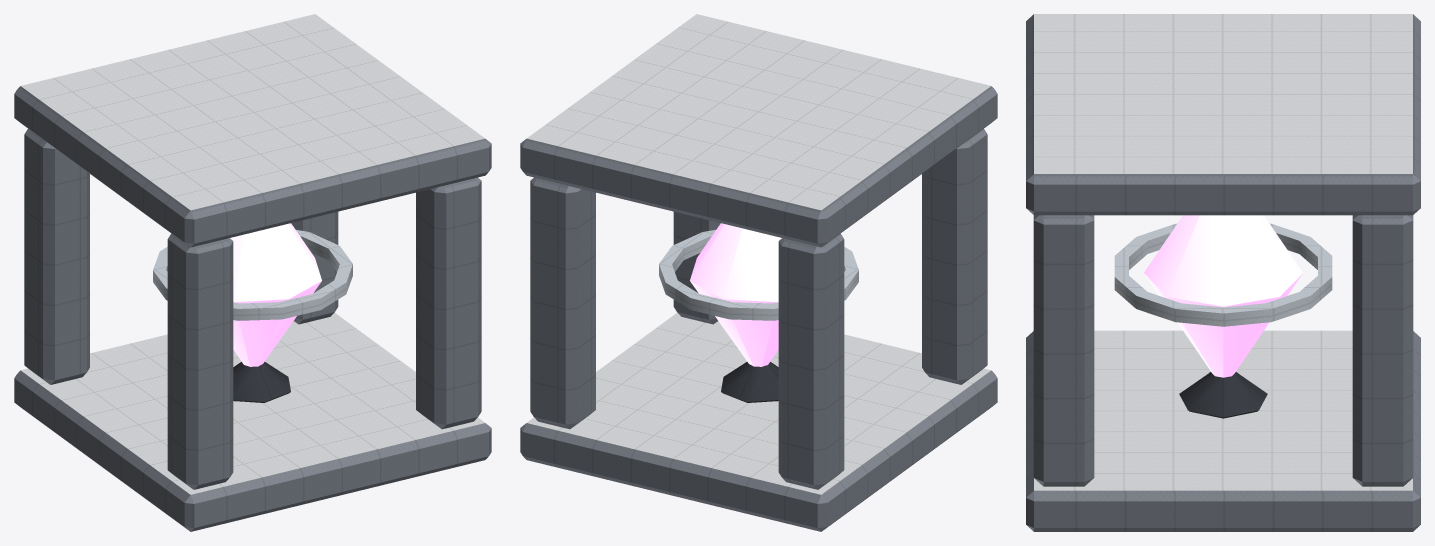
Rendered from R4X_CoreBooster_LOD1.glb.
3 views of the same model, side by side, from view 1: azimuth 30°, elevation 25°; view 2: azimuth 150°, elevation 25°; view 3: azimuth 270°, elevation 25° (orthographic). The views are drawn at different scales.
Visible parts, largest first — view 1: R4X_CoreBooster_LOD1; view 2: R4X_CoreBooster_LOD1; view 3: R4X_CoreBooster_LOD1.
Boxes of the visible parts, x1,y1,x2,y2 form: R4X_CoreBooster_LOD1: [14, 14, 491, 531]; R4X_CoreBooster_LOD1: [520, 14, 997, 531]; R4X_CoreBooster_LOD1: [1026, 14, 1420, 531].
Bounding box in the file's own units: 0.52 × 0.52 × 0.52.
Materials: 5 (4 with a texture image).
